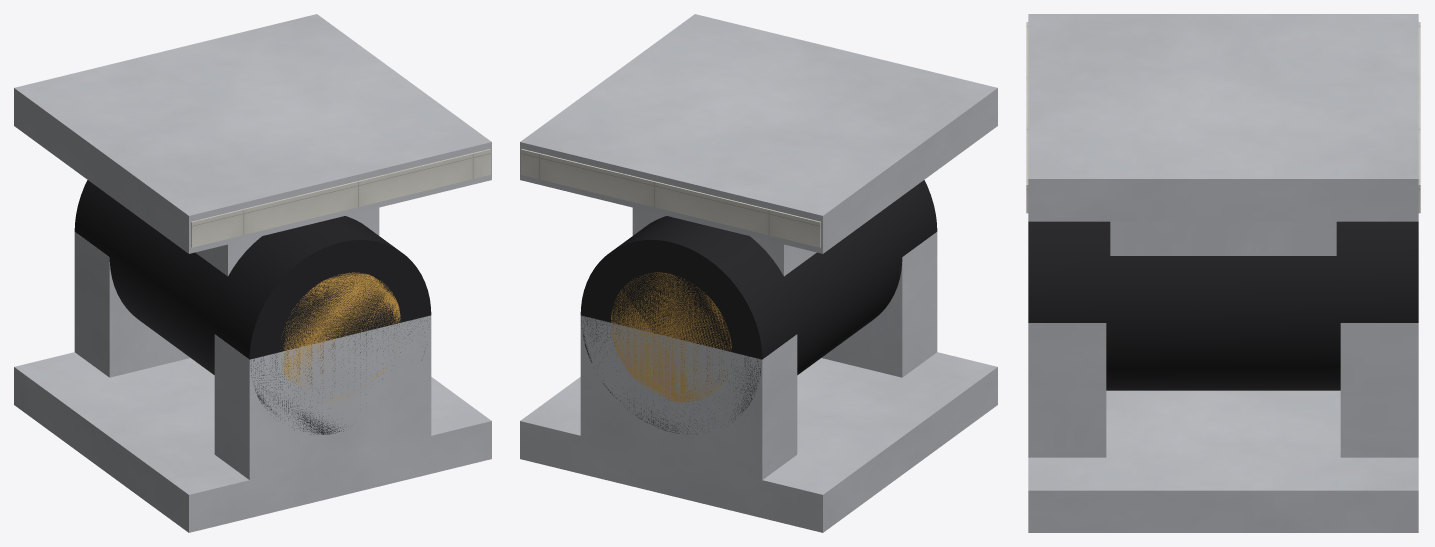
Rendered from robo00_hinge_m.glb.
The picture shows the model from 3 angles, left to right: view 1: azimuth 30°, elevation 25°; view 2: azimuth 150°, elevation 25°; view 3: azimuth 270°, elevation 25°; orthographic projection. The views are drawn at different scales.
Visible parts, largest first — view 1: base_block, half_b_block, motor, half_b_foil, motor_caps; view 2: base_block, half_b_block, motor, motor_caps, half_b_foil; view 3: half_b_block, base_block, motor, half_b_foil.
Boxes of the visible parts, x1=… form: base_block: x1=14, y1=232, x2=491, y2=532; half_b_block: x1=14, y1=14, x2=491, y2=276; motor: x1=74, y1=180, x2=431, y2=434; half_b_foil: x1=191, y1=149, x2=490, y2=247; motor_caps: x1=282, y1=272, x2=400, y2=401; base_block: x1=520, y1=232, x2=997, y2=532; half_b_block: x1=520, y1=14, x2=997, y2=276; motor: x1=580, y1=180, x2=937, y2=434; motor_caps: x1=611, y1=272, x2=731, y2=402; half_b_foil: x1=521, y1=149, x2=820, y2=247; half_b_block: x1=1028, y1=14, x2=1418, y2=255; base_block: x1=1028, y1=323, x2=1418, y2=532; motor: x1=1028, y1=221, x2=1418, y2=390; half_b_foil: x1=1026, y1=22, x2=1420, y2=213.
Size of the model in its own units: 0.8 by 0.8 by 0.808.
Materials: 4 (3 with a texture image).
